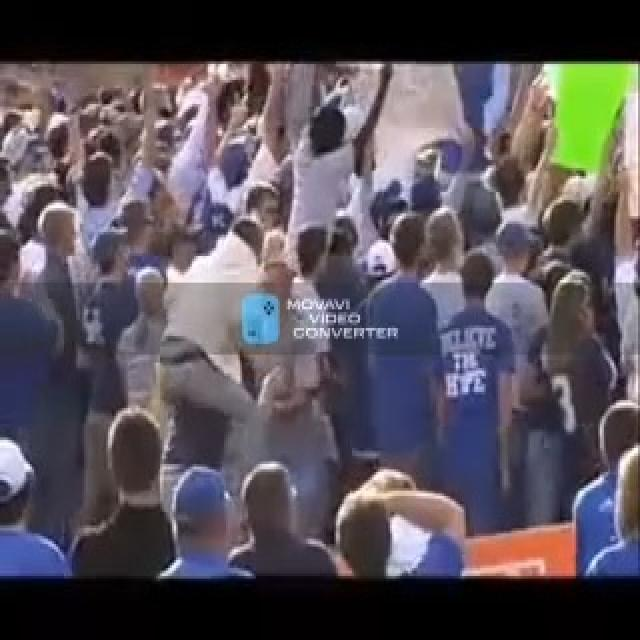non-voilence: (0, 61, 638, 579)
